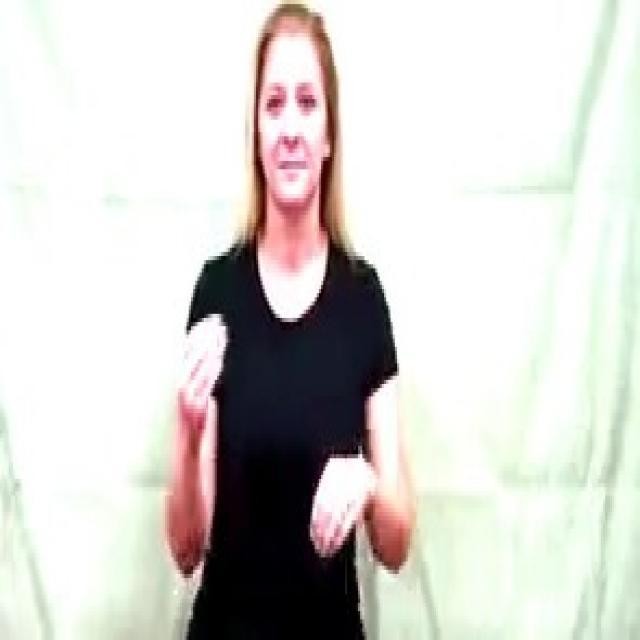ingredients: (299, 438, 385, 572), (174, 304, 254, 442)
